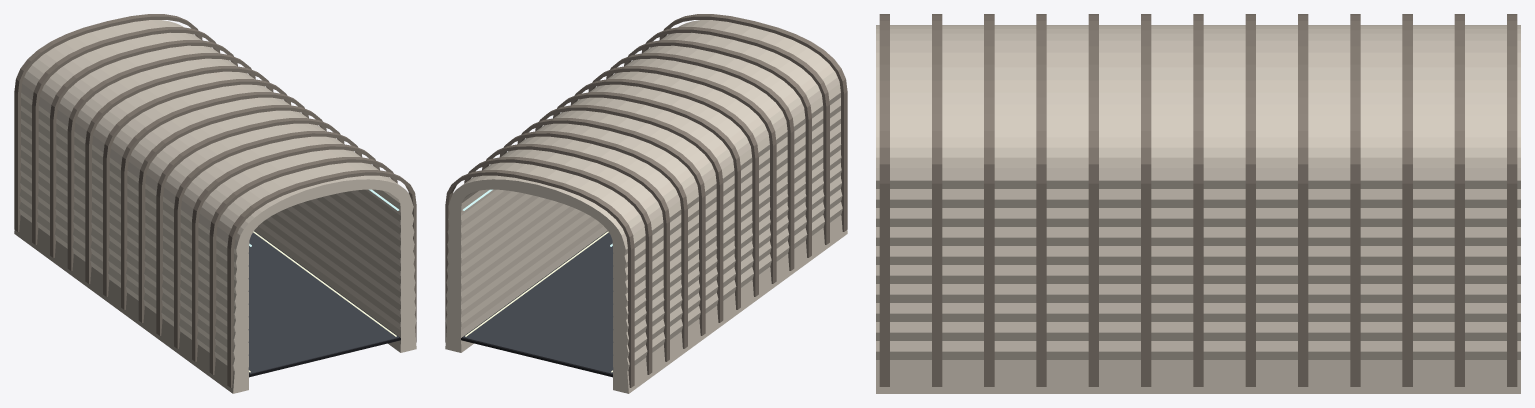
Rendered from Tunnel3.fbx.
3 views of the same model, side by side, from view 1: azimuth 30°, elevation 25°; view 2: azimuth 150°, elevation 25°; view 3: azimuth 270°, elevation 25° (orthographic). The views are drawn at different scales.
Parts seen in each view (by area): view 1: Tunnel3 solid, Tunnel3 trim; view 2: Tunnel3 solid, Tunnel3 trim; view 3: Tunnel3 solid, Tunnel3 trim.
Boxes of the visible parts, <box> form: Tunnel3 solid: <box>14,20,416,393</box>; Tunnel3 trim: <box>14,14,416,387</box>; Tunnel3 solid: <box>445,20,847,393</box>; Tunnel3 trim: <box>445,14,847,387</box>; Tunnel3 solid: <box>876,25,1520,393</box>; Tunnel3 trim: <box>879,14,1517,386</box>.
Size of the model in its own units: 3.66 by 3.6 by 7.47.
